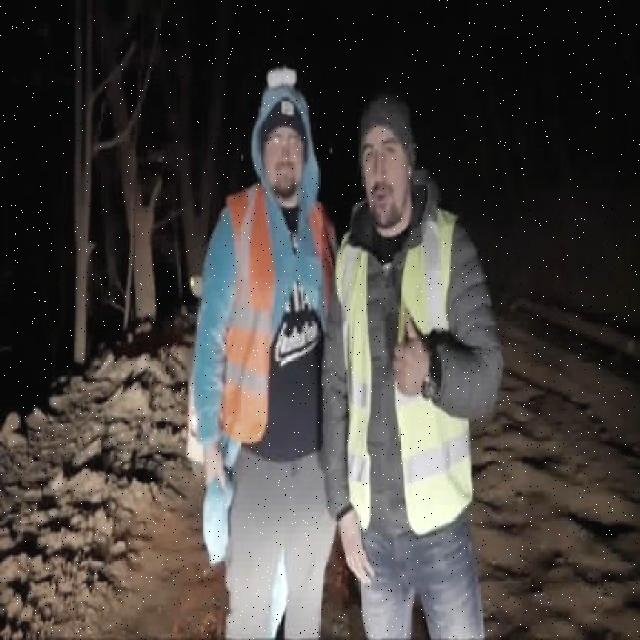Mask: (335, 209, 473, 537), (222, 185, 336, 448)
